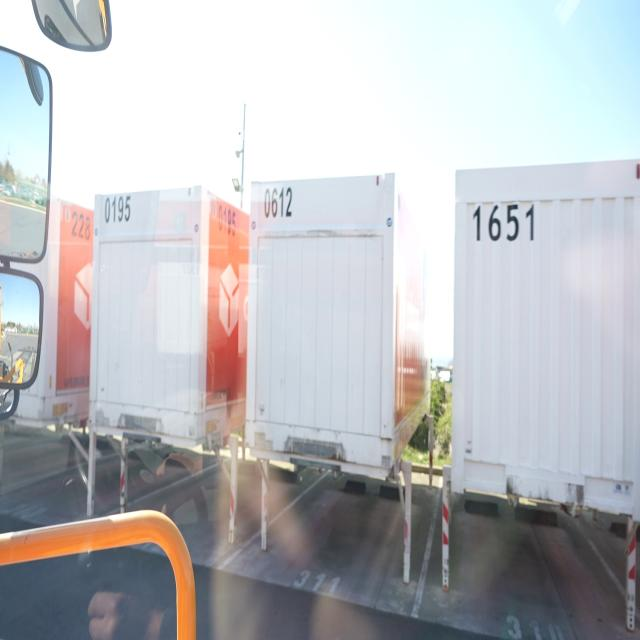Code: (467, 190, 540, 250), (257, 177, 297, 226), (67, 200, 94, 258), (99, 191, 134, 230), (212, 195, 238, 240)
